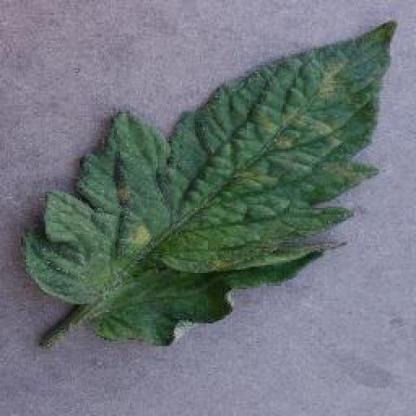Tomato_Leaf_Mold: (23, 20, 394, 307)
